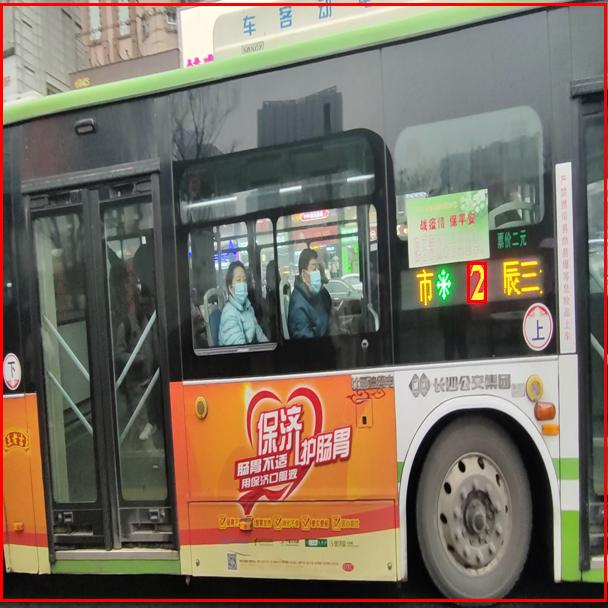bus: (0, 3, 606, 601)
screen: (467, 262, 486, 302)
